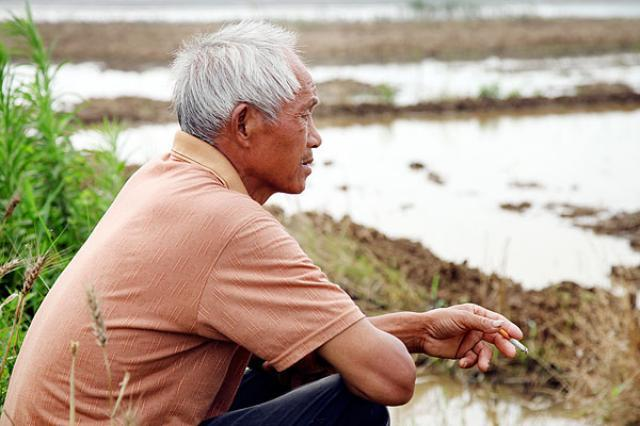Smoking: (497, 329, 531, 356)
